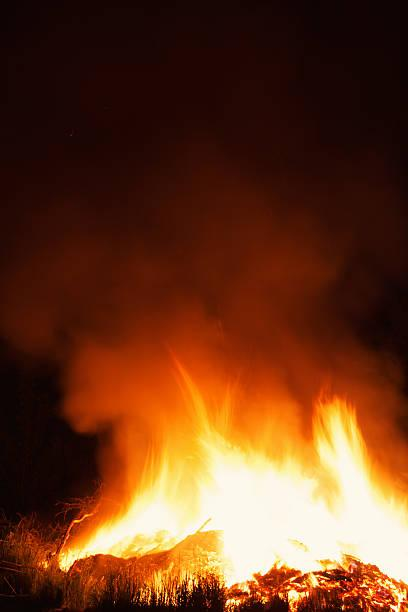Fire: (35, 214, 402, 601)
